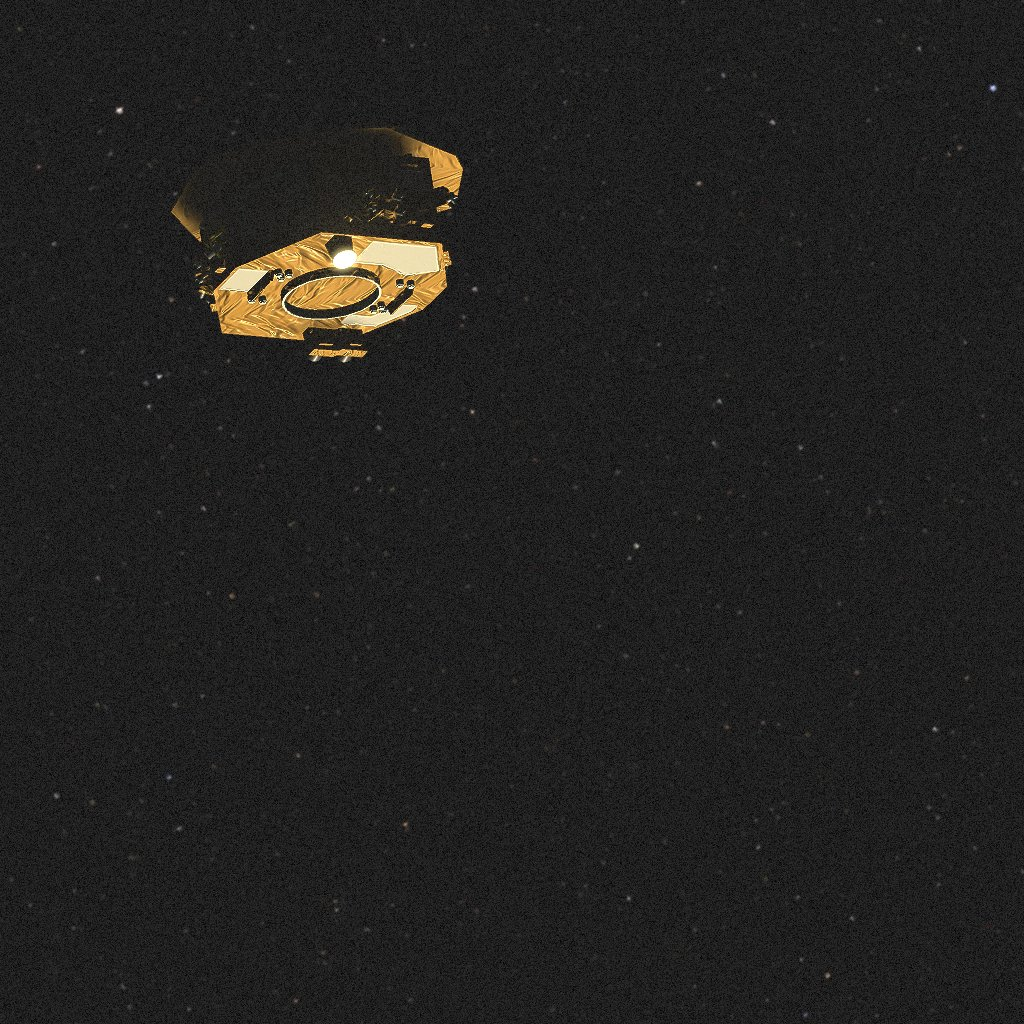lisa_pathfinder: (171, 121, 463, 362)
